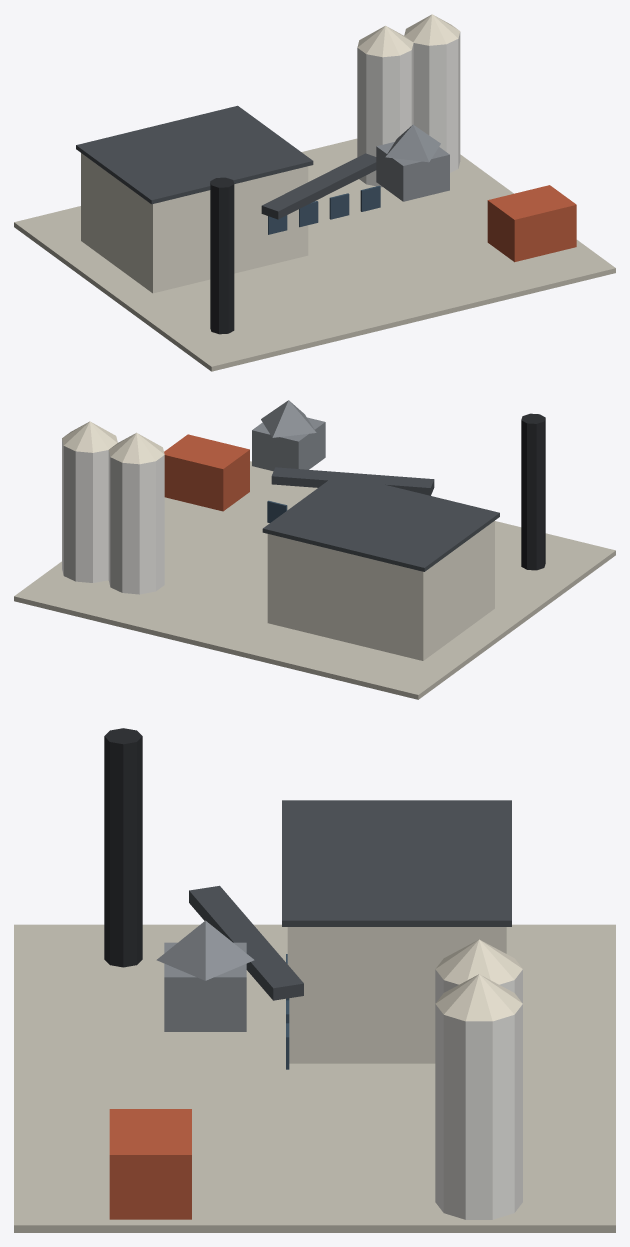
Rendered from building.ore-plant.glb.
The picture shows the model from 3 angles, top to bottom: view 1: azimuth 30°, elevation 25°; view 2: azimuth 150°, elevation 25°; view 3: azimuth 270°, elevation 25°; orthographic projection. The views are drawn at different scales.
Parts seen in each view (by area): view 1: building.ore-plant; view 2: building.ore-plant; view 3: building.ore-plant.
Boxes of the visible parts, x1,y1,x2,y2 form: building.ore-plant: (14,14,615,371); building.ore-plant: (14,400,615,699); building.ore-plant: (14,728,615,1232).
Size of the model in its own units: 26 by 9.5 by 22.
